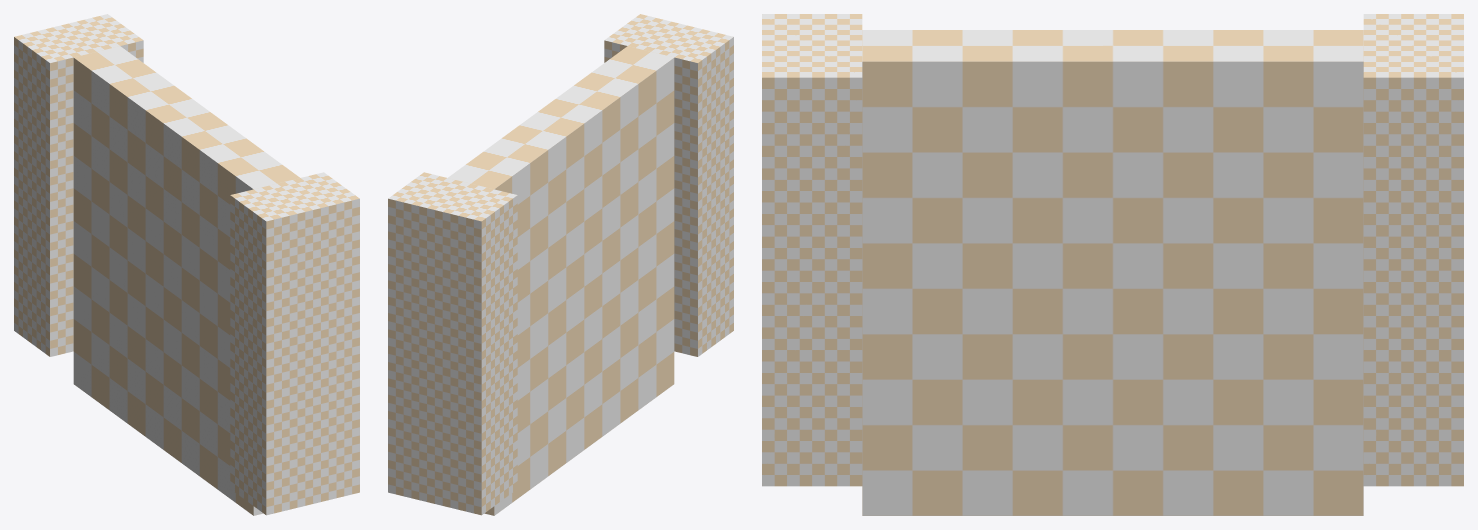
File: Door.FBX
3 views of the same model, side by side, from view 1: azimuth 30°, elevation 25°; view 2: azimuth 150°, elevation 25°; view 3: azimuth 270°, elevation 25° (orthographic). The views are drawn at different scales.
Parts seen in each view (by area): view 1: door, door_pillar2, door_pillar1; view 2: door, door_pillar1, door_pillar2; view 3: door, door_pillar1, door_pillar2.
Boxes of the visible parts, bbox=[...] form: door: bbox=[73, 46, 299, 515]; door_pillar2: bbox=[230, 172, 359, 515]; door_pillar1: bbox=[14, 14, 143, 356]; door: bbox=[448, 46, 674, 515]; door_pillar1: bbox=[388, 172, 517, 515]; door_pillar2: bbox=[604, 14, 733, 356]; door: bbox=[862, 30, 1363, 515]; door_pillar1: bbox=[1363, 14, 1463, 486]; door_pillar2: bbox=[762, 14, 862, 486].
Size of the model in its own units: 30 by 100 by 140.
Materials: 1 (1 with a texture image).
